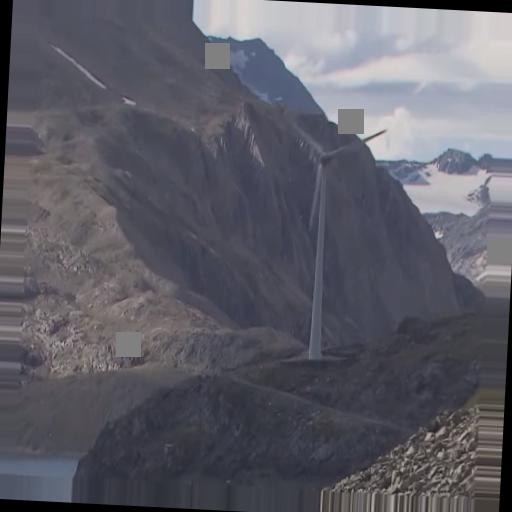wind turbine: (289, 108, 389, 360)
